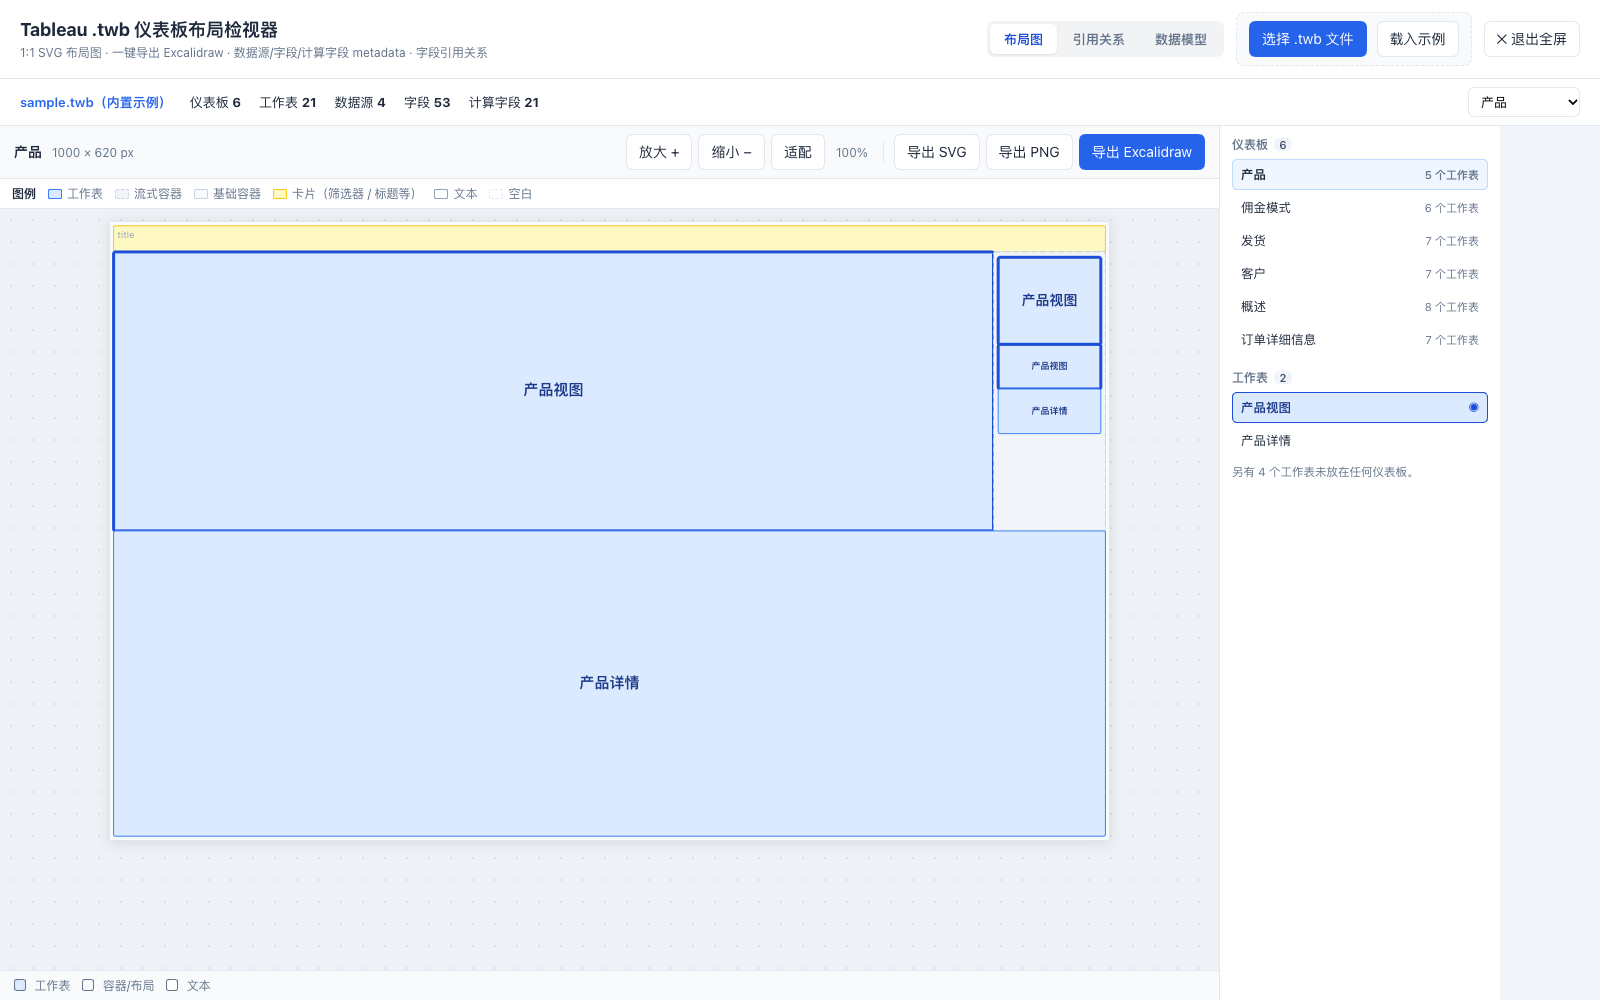

The page's visual inventory and layout, read from the dashboard file:
{"tool":"tableau","page":{"name":"产品","canvas":[1000,1000],"units":"permille","ordinal":0},"visuals":[{"type":"title","box":[4.1,7.7,991.8,42]},{"type":"worksheet","title":"产品视图","mark":"Square","rows":["类别","订单日期"],"cols":["订单日期"],"box":[4.1,49.8,879.9,450]},{"type":"filter","title":"产品视图","param":"[federated.10nnk8d1vgmw8q17yu76u06pnbcj].[none:区域:nk]","box":[888.6,58.6,102.6,140.5]},{"type":"legend","title":"产品视图","param":"[federated.10nnk8d1vgmw8q17yu76u06pnbcj].[sum:销售额:qk]","box":[888.6,199.1,102.6,71.9]},{"type":"legend","title":"产品详情","param":"[federated.10nnk8d1vgmw8q17yu76u06pnbcj].[usr:Calculation_9921103144103743:qk]","box":[888.6,271,102.6,71.9]},{"type":"worksheet","title":"产品详情","mark":"Circle","rows":["类别","子类别"],"cols":["细分","销售额"],"box":[4.1,499.8,991.8,492.5]}]}

Visuals, with their boxes on the dashboard's canvas, which has no fixed pixel size, in thousandths of its width and height (x1, y1, x2, y2). These are canvas units, not pixel positions in the 1600x1000 screenshot, which may show the page scaled, cropped or inside an application window:
title: <region>4, 8, 996, 50</region>
"产品视图" worksheet (Square marks): <region>4, 50, 884, 500</region>
"产品视图" filter: <region>889, 59, 991, 199</region>
"产品视图" legend: <region>889, 199, 991, 271</region>
"产品详情" legend: <region>889, 271, 991, 343</region>
"产品详情" worksheet (Circle marks): <region>4, 500, 996, 992</region>
